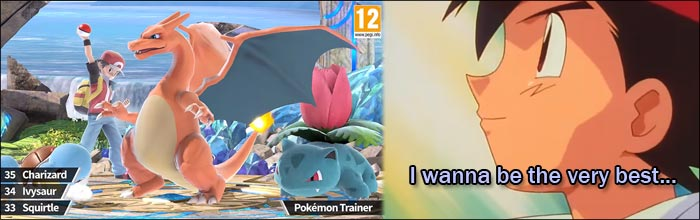charizard: (93, 9, 363, 207)
